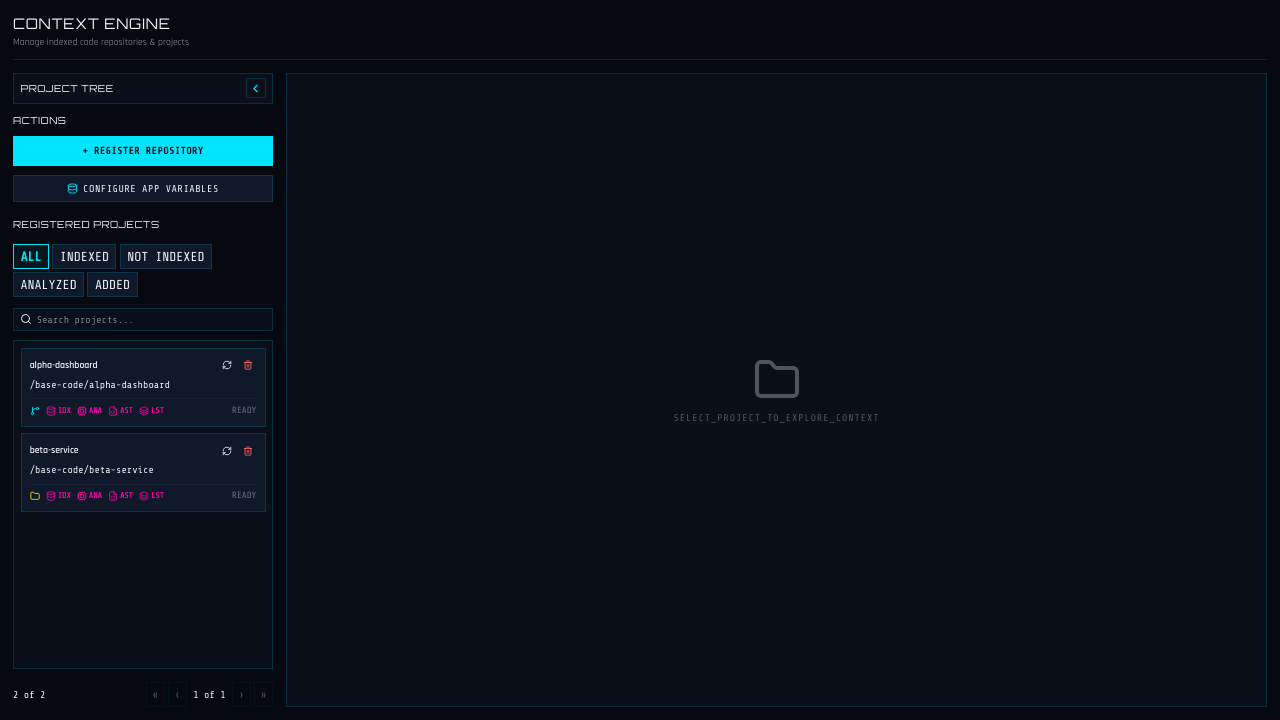
Scenario: ContextView - FileBrowserModal Integration › filters the project tree with full-text search after the debounce delay
expect the text "alpha-dashboard" is shown: met, box [30,359,98,372]
expect the text "beta-service" is shown: met, box [30,444,79,457]
Type "GITHUB.COM/ACME/ALPHA" into the search field labelled "Search projects..." at {"x": 143, "y": 319}, box [13,308,273,331]
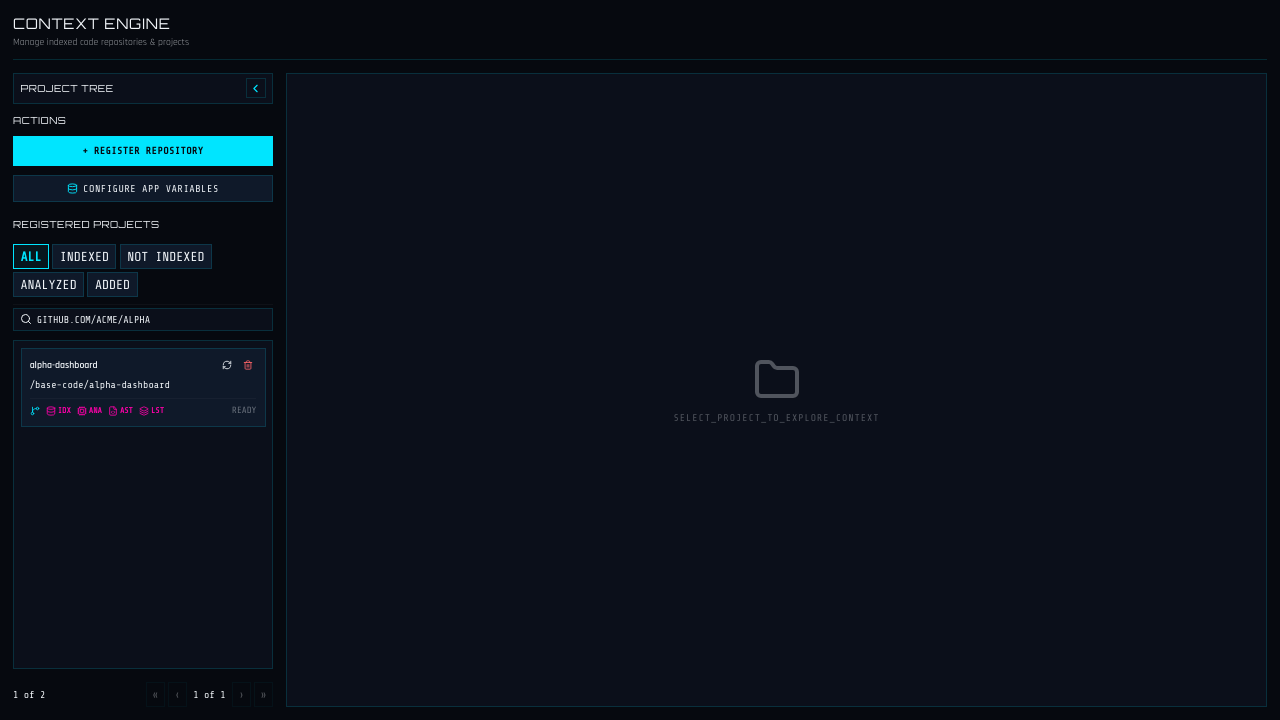
expect the text "alpha-dashboard" is shown: met, box [30,359,98,372]
expect the text "beta-service" is gone: met
